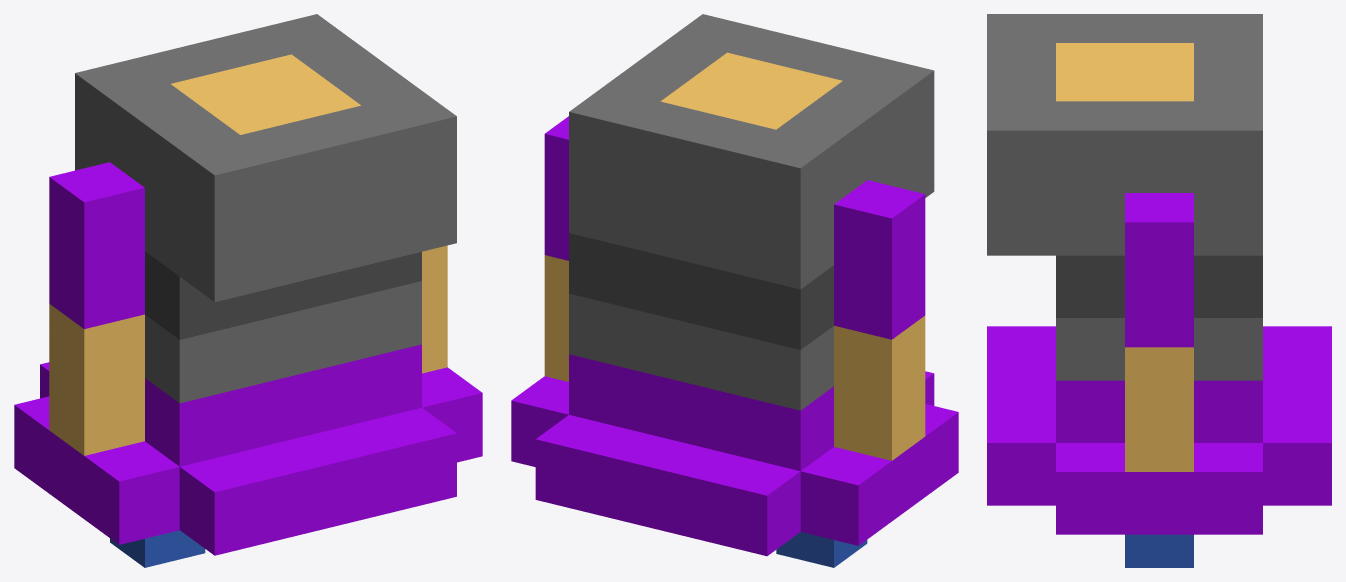
Rendered from Body 9.obj.
The picture shows the model from 3 angles, left to right: view 1: azimuth 30°, elevation 25°; view 2: azimuth 150°, elevation 25°; view 3: azimuth 270°, elevation 25°; orthographic projection. The views are drawn at different scales.
Bounding box in the file's own units: 6 × 7 × 5.
1 material, 1 textured.
